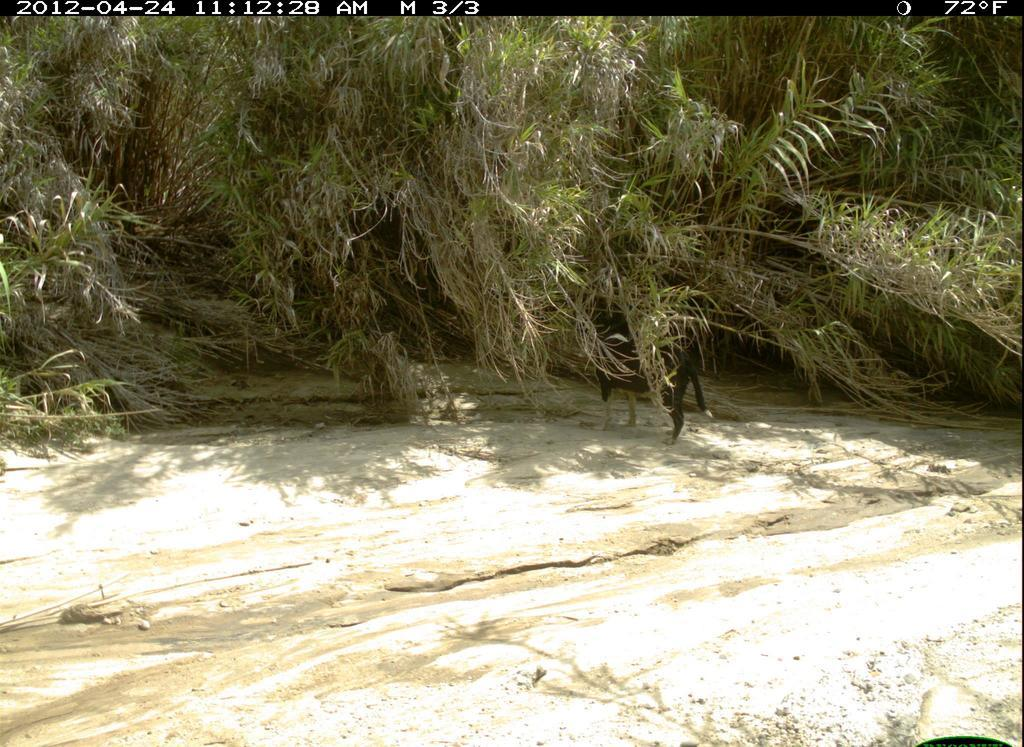dog: (578, 309, 721, 450)
